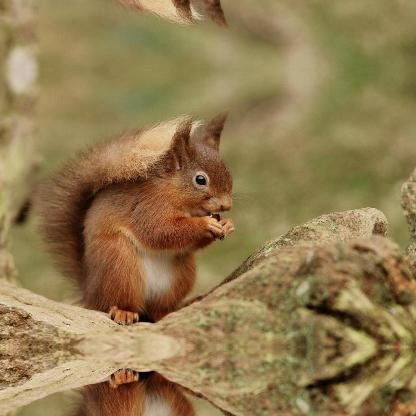Squirrel: (29, 109, 244, 325), (29, 367, 245, 415)
